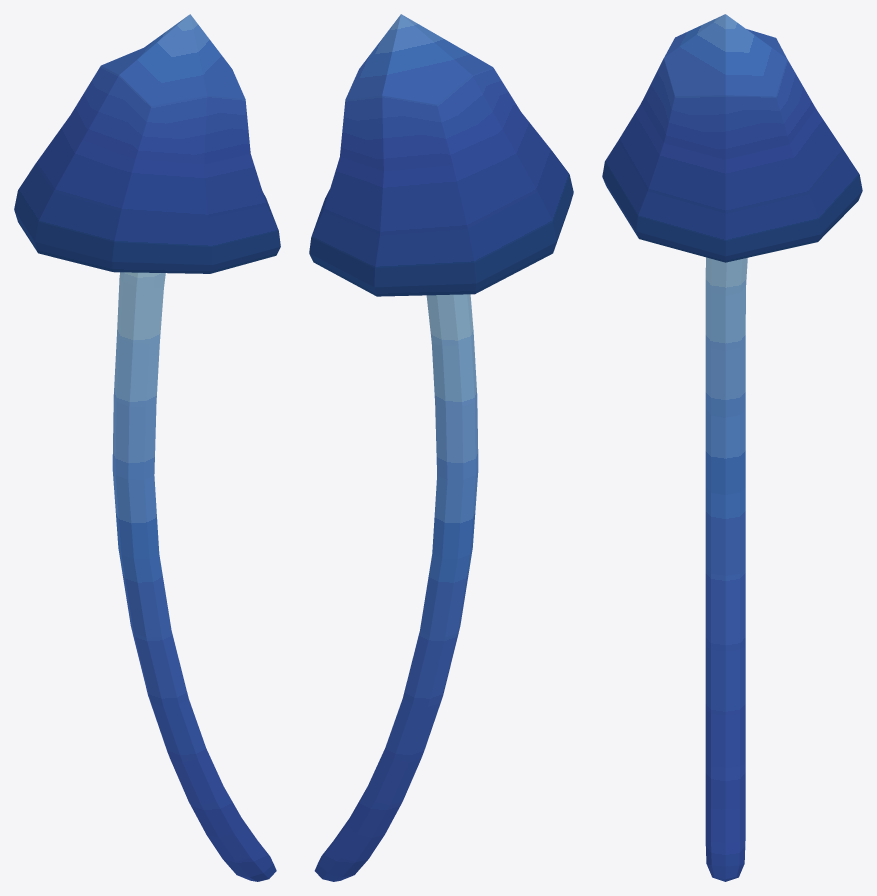
Rendered from BluePinkgill_large.glb.
3 views of the same model, side by side, from view 1: azimuth 30°, elevation 25°; view 2: azimuth 150°, elevation 25°; view 3: azimuth 270°, elevation 25° (orthographic). The views are drawn at different scales.
Visible parts, largest first — view 1: Cube.001; view 2: Cube.001; view 3: Cube.001.
Boxes of the visible parts, x1,y1,x2,y2 form: Cube.001: (14,14,280,881); Cube.001: (309,14,573,881); Cube.001: (602,14,862,881).
Size of the model in its own units: 2.58 by 9.11 by 2.58.
1 material, 1 textured.
